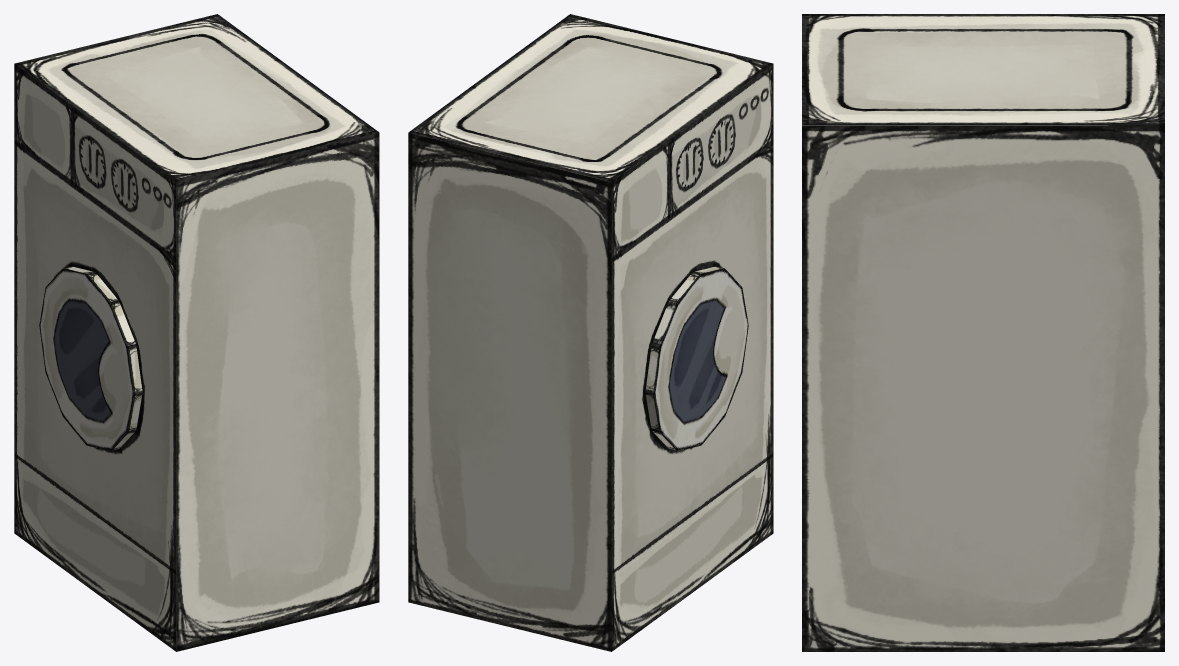
The model's file is washing_machine.fbx.
3 renders of one model, left to right at view 1: azimuth 30°, elevation 25°; view 2: azimuth 150°, elevation 25°; view 3: azimuth 270°, elevation 25°, orthographic. The views are drawn at different scales.
Visible parts, largest first — view 1: washing, washing_door; view 2: washing, washing_door; view 3: washing.
Boxes of the visible parts, bbox=[...] form: washing: bbox=[14, 14, 379, 651]; washing_door: bbox=[39, 266, 142, 451]; washing: bbox=[408, 14, 773, 651]; washing_door: bbox=[645, 266, 748, 451]; washing: bbox=[802, 14, 1164, 651].
Bounding box in the file's own units: 0.6721 × 1.42 × 0.8883.
Materials: 2 (2 with a texture image).
